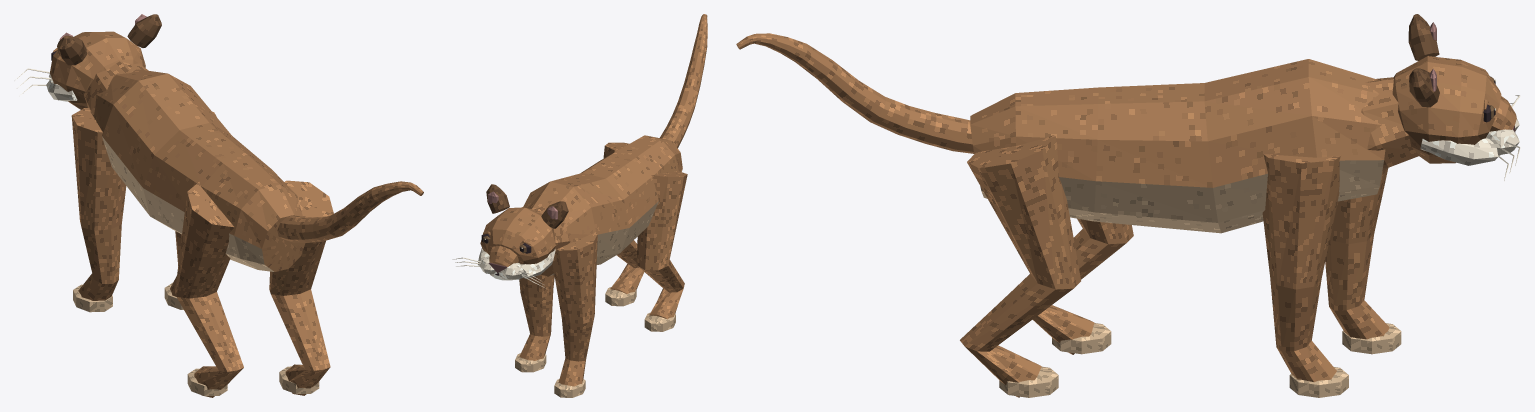
Rendered from mon_cougar.glb.
3 views of the same model, side by side, from view 1: azimuth 30°, elevation 25°; view 2: azimuth 150°, elevation 25°; view 3: azimuth 270°, elevation 25° (orthographic). The views are drawn at different scales.
Visible parts, largest first — view 1: closed_body; view 2: closed_body; view 3: closed_body.
Boxes of the visible parts, <box> form: closed_body: <box>15,14,423,397</box>; closed_body: <box>452,14,707,397</box>; closed_body: <box>736,14,1520,397</box>.
Size of the model in its own units: 0.439 by 1.04 by 2.03.
Materials: 1 (1 with a texture image).
